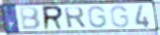4: (133, 4, 151, 29)
B: (18, 6, 43, 31)
G: (109, 5, 131, 29), (87, 5, 108, 29)
R: (42, 5, 65, 31), (63, 6, 88, 29)
